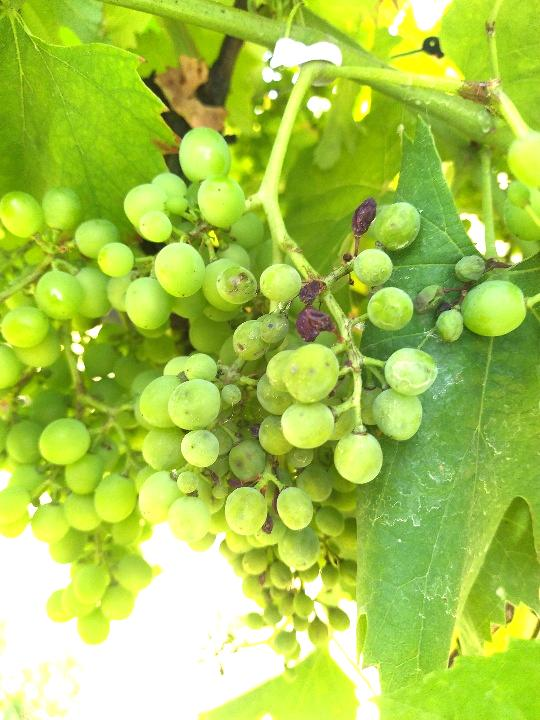grape: (97, 124, 441, 572)
